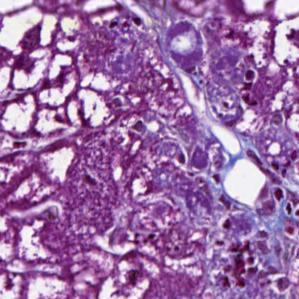inflammation: (65, 88, 115, 130), (238, 58, 263, 88)
